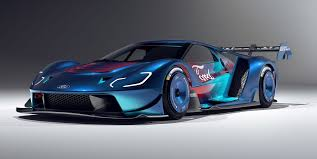car: (18, 40, 293, 122)
